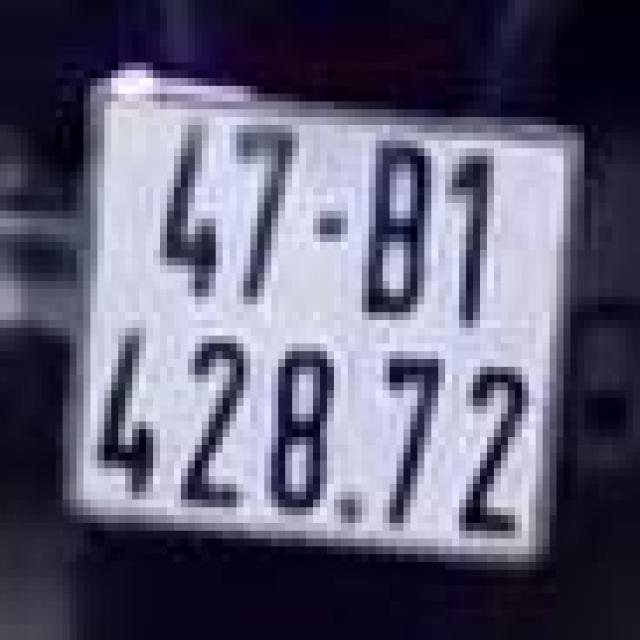1: (445, 133, 501, 343)
2: (456, 359, 539, 546), (177, 320, 254, 515)
4: (150, 102, 226, 312), (83, 316, 160, 504)
7: (372, 336, 449, 546), (230, 113, 299, 308)
8: (268, 328, 337, 531)
B: (351, 125, 442, 335)
